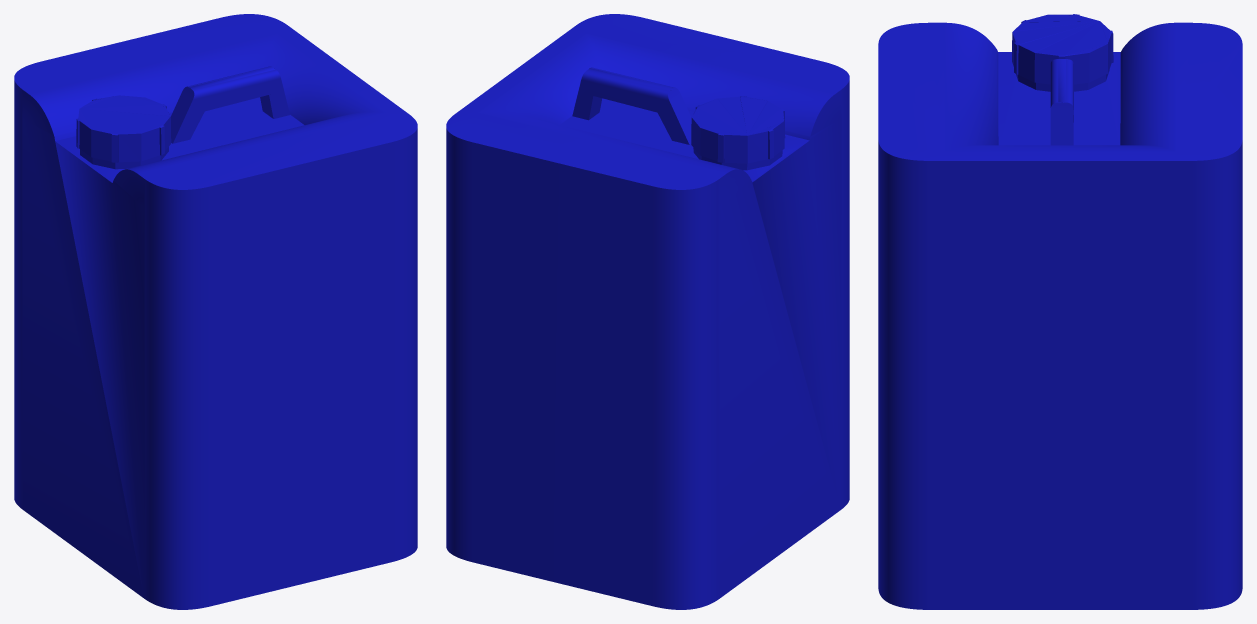
File: 废液桶.fbx
3 renders of one model, left to right at view 1: azimuth 30°, elevation 25°; view 2: azimuth 150°, elevation 25°; view 3: azimuth 270°, elevation 25°, orthographic. The views are drawn at different scales.
Visible parts, largest first — view 1: Box002, 对象001, NGon001; view 2: Box002, 对象001, NGon001; view 3: Box002, 对象001, NGon001.
Part boxes in pixels (x1,y1,x2,y2): Box002: [14, 14, 417, 609]; 对象001: [76, 95, 171, 162]; NGon001: [171, 66, 289, 143]; Box002: [446, 14, 849, 609]; 对象001: [691, 96, 785, 163]; NGon001: [572, 67, 691, 144]; Box002: [878, 22, 1242, 609]; 对象001: [1012, 14, 1113, 84]; NGon001: [1050, 59, 1073, 145].
Bounding box in the file's own units: 263 × 416 × 293.
